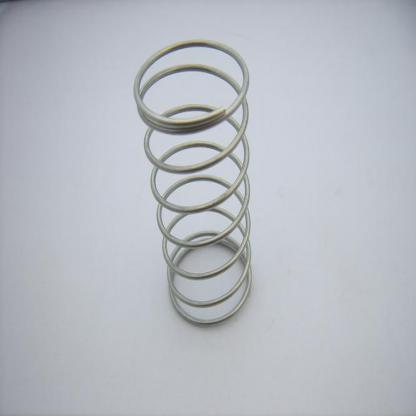FOD: (133, 34, 257, 330)
